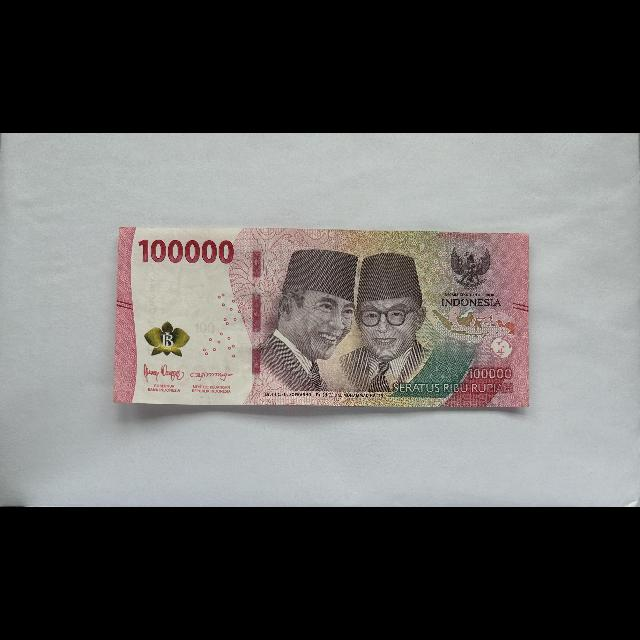Asli-100k: (112, 226, 531, 409)
Tinta-Asli-100k: (144, 320, 191, 358)
